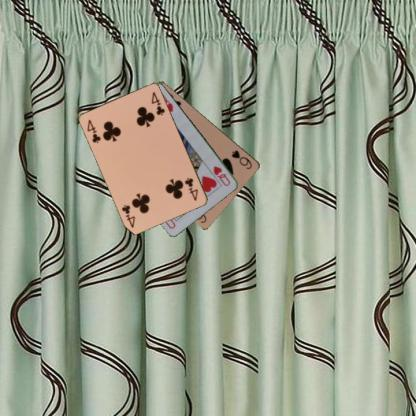4c: (182, 175, 199, 202), (85, 117, 102, 144)
6s: (229, 147, 253, 170)
Qh: (211, 164, 232, 187)
